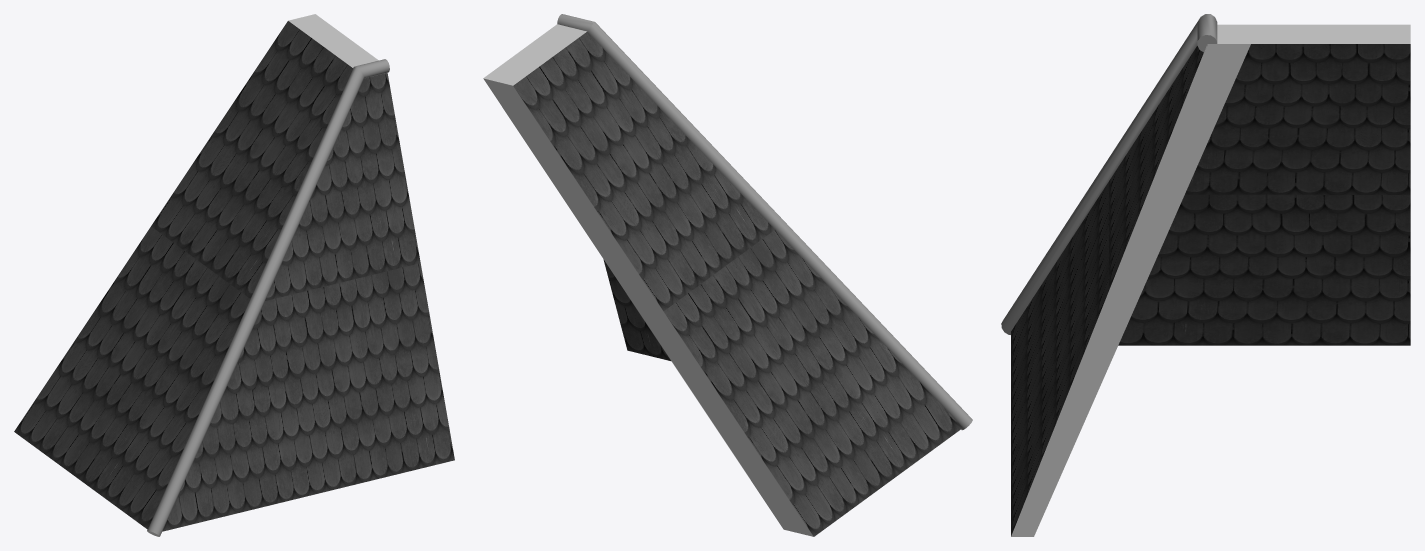
Rendered from SM_Roof_A_007.FBX.
3 views of the same model, side by side, from view 1: azimuth 30°, elevation 25°; view 2: azimuth 150°, elevation 25°; view 3: azimuth 270°, elevation 25° (orthographic). The views are drawn at different scales.
Parts seen in each view (by area): view 1: SM_Roof_A_007; view 2: SM_Roof_A_007; view 3: SM_Roof_A_007.
Boxes of the visible parts, left/top/right/bottom form: SM_Roof_A_007: left=14, top=14, right=454, bottom=536; SM_Roof_A_007: left=483, top=14, right=972, bottom=536; SM_Roof_A_007: left=1001, top=14, right=1410, bottom=536.
Bounding box in the file's own units: 559 × 619 × 451.
